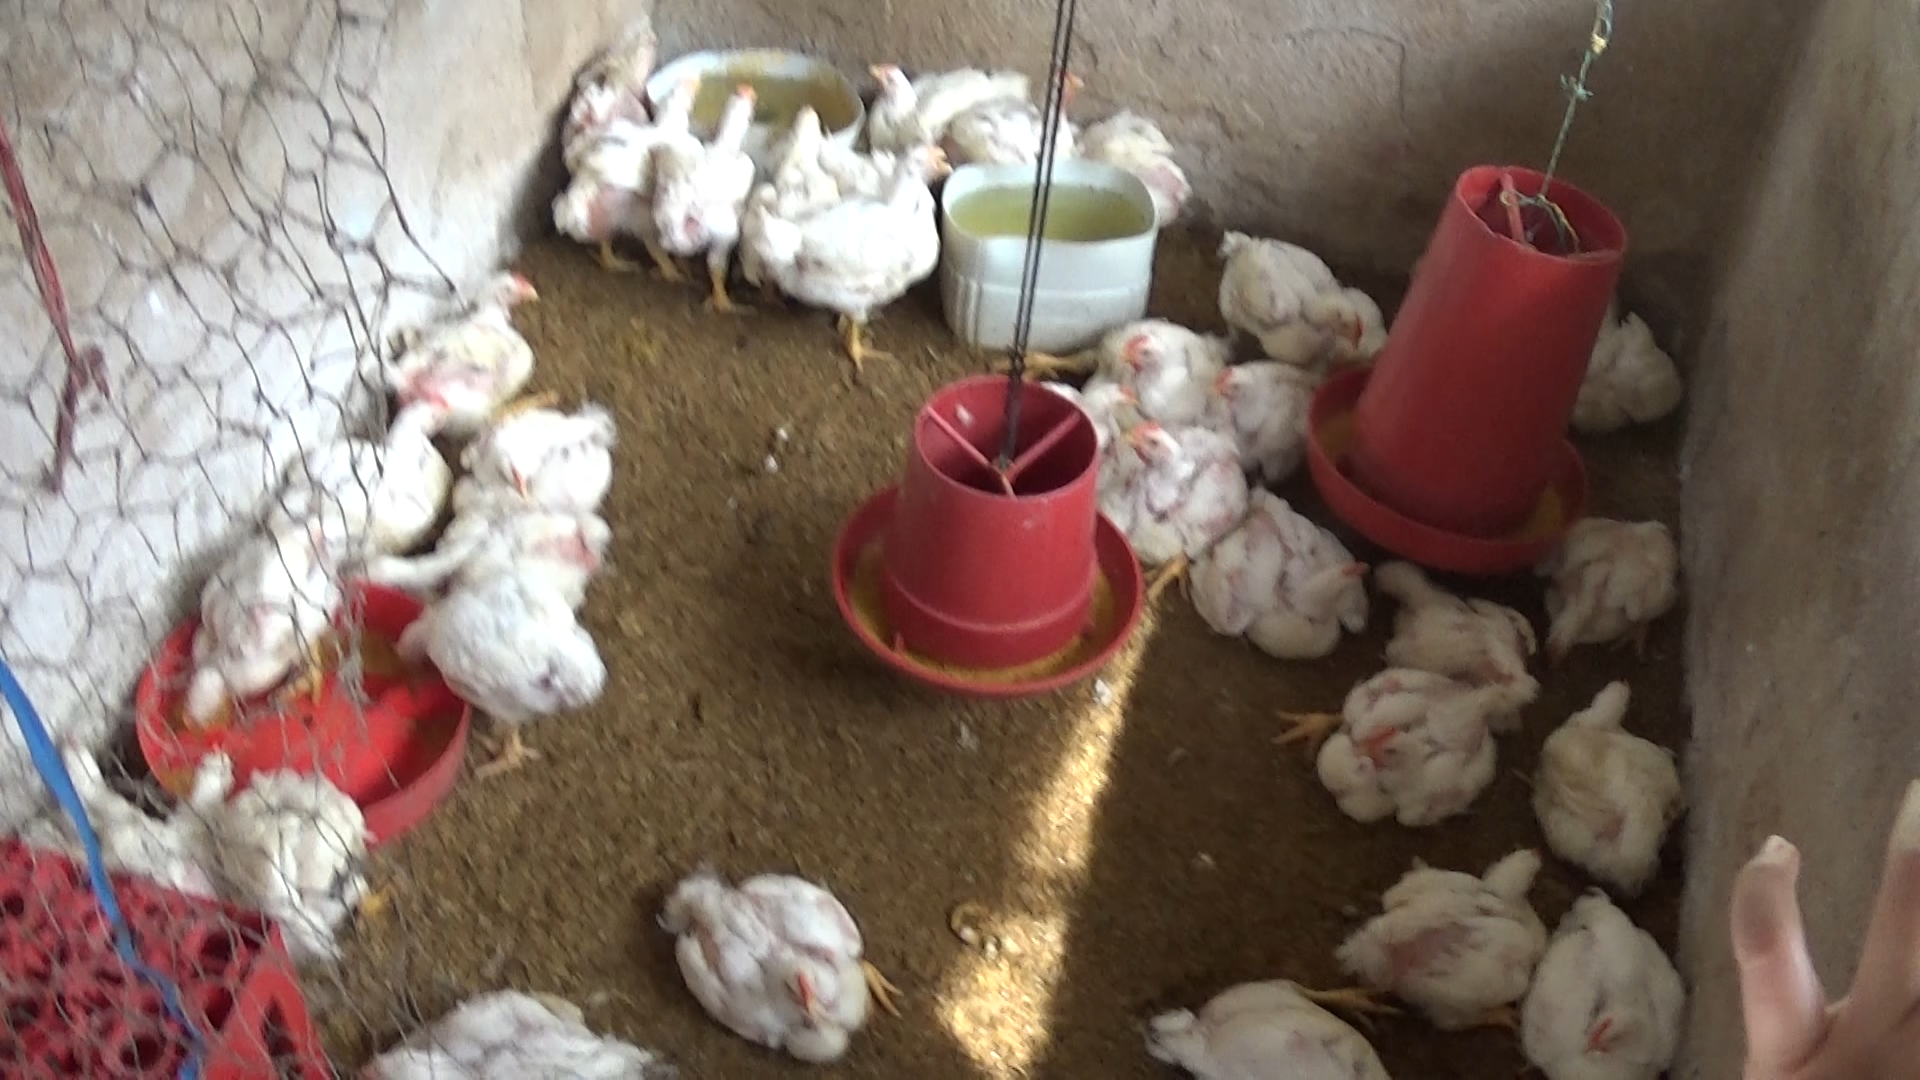Pollos: (735, 148, 971, 371), (653, 866, 899, 1056), (385, 568, 611, 775), (1327, 843, 1553, 1029), (175, 520, 353, 756), (262, 384, 462, 564), (1302, 662, 1516, 825), (549, 59, 704, 285), (1124, 957, 1402, 1080), (1520, 676, 1691, 877), (1513, 886, 1685, 1072), (367, 255, 555, 418), (1196, 483, 1367, 649), (1370, 541, 1536, 702), (1531, 495, 1691, 658), (642, 83, 761, 295), (1221, 223, 1395, 363), (1124, 375, 1241, 576), (870, 46, 1021, 173), (480, 397, 634, 508), (1576, 295, 1696, 436), (1087, 314, 1221, 413), (1207, 320, 1317, 440)
